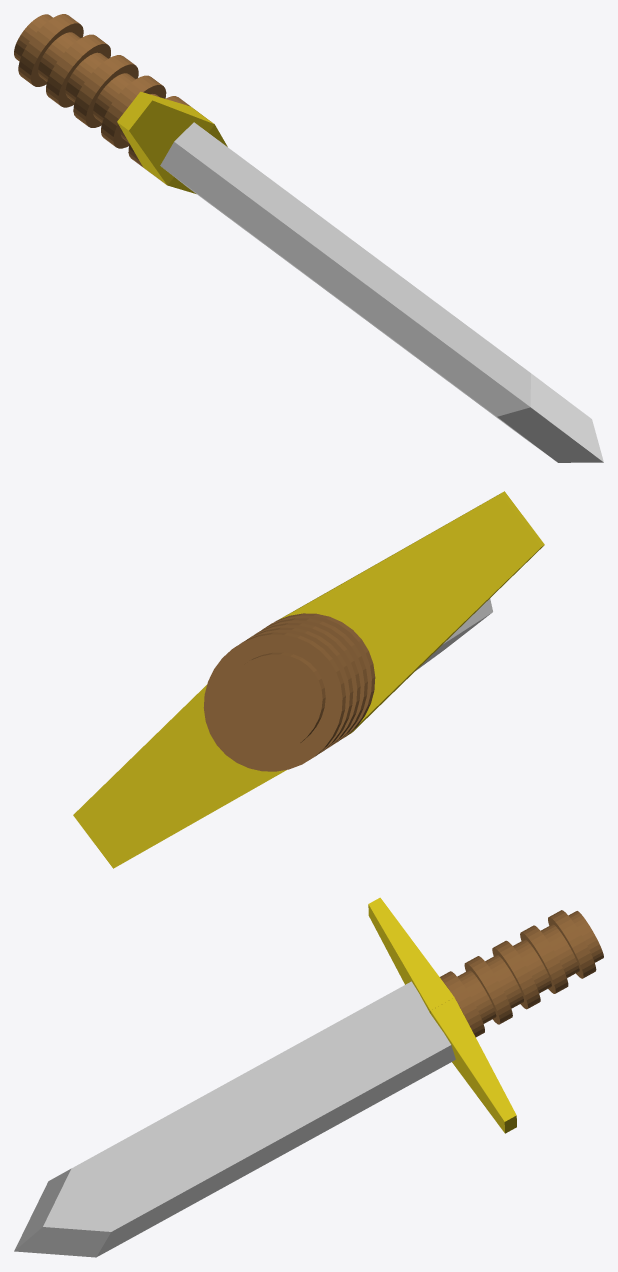
File: sword.fbx
3 views of the same model, one above another, from view 1: azimuth 30°, elevation 25°; view 2: azimuth 150°, elevation 25°; view 3: azimuth 270°, elevation 25° (orthographic). The views are drawn at different scales.
Visible parts, largest first — view 1: Sword; view 2: Sword; view 3: Sword.
Part boxes in pixels (x1,y1,x2,y2): Sword: (14,14,603,462); Sword: (73,491,544,868); Sword: (14,897,603,1257).
Bounding box in the file's own units: 513 × 1046 × 496.
Materials: 1 (1 with a texture image).
